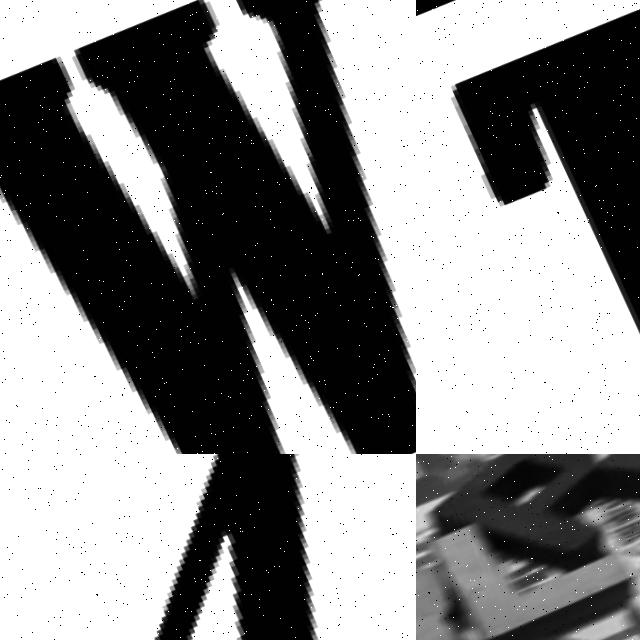J: (483, 572, 640, 640)
L: (416, 456, 640, 640)
P: (418, 454, 626, 598)
R: (416, 525, 506, 640)
T: (421, 0, 640, 454)
W: (0, 0, 416, 454)
